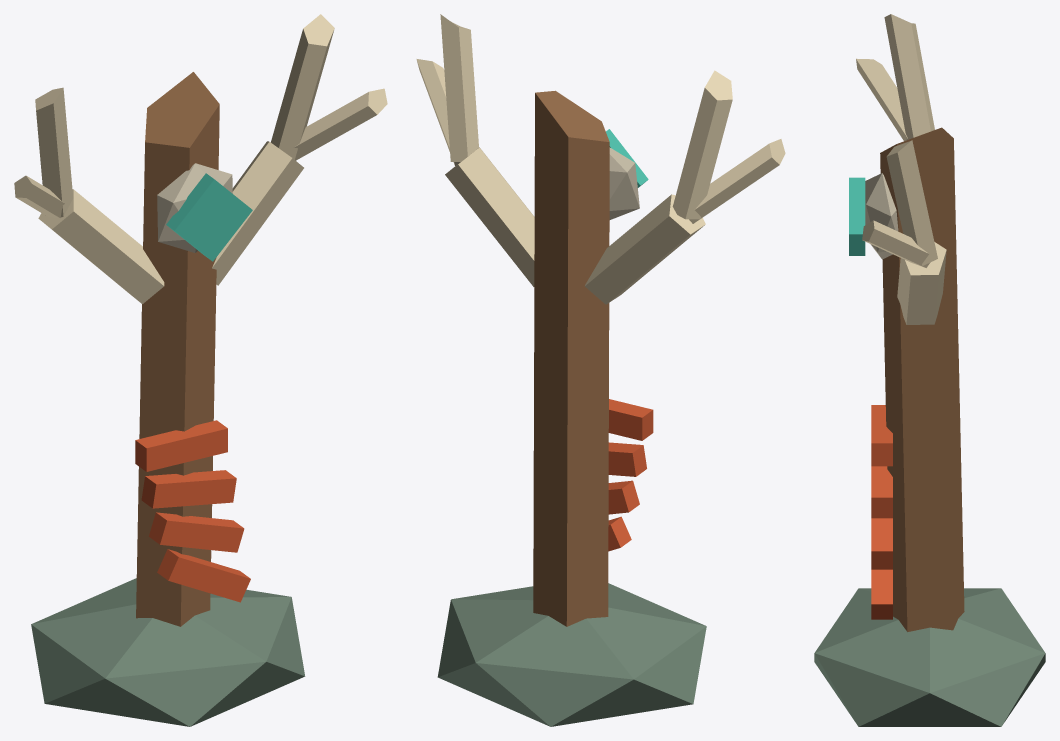
Rendered from antler_beacon.glb.
3 renders of one model, left to right at view 1: azimuth 30°, elevation 25°; view 2: azimuth 150°, elevation 25°; view 3: azimuth 270°, elevation 25°, orthographic. The views are drawn at different scales.
Parts seen in each view (by area): view 1: antler_beacon; view 2: antler_beacon; view 3: antler_beacon.
Part boxes in pixels (x1,y1,x2,y2): antler_beacon: [14, 14, 387, 726]; antler_beacon: [416, 14, 785, 726]; antler_beacon: [814, 14, 1045, 726].
Size of the model in its own units: 1.63 by 2.79 by 0.9187.
